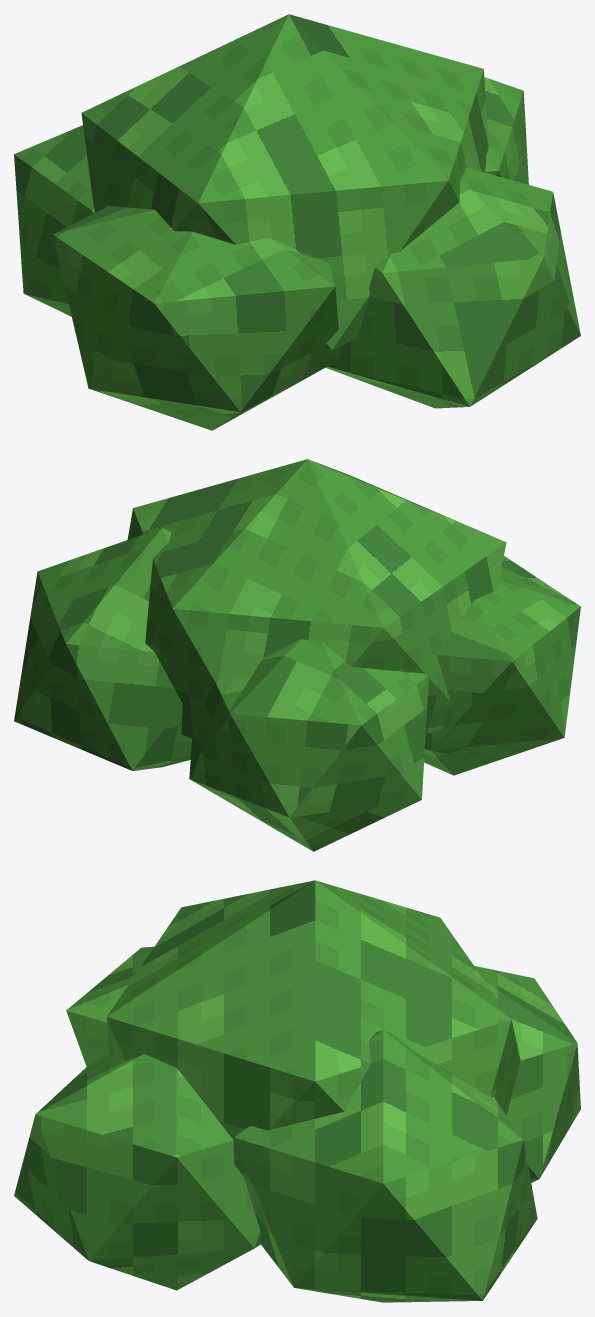
The model's file is bush1.glb.
3 renders of one model, top to bottom at view 1: azimuth 30°, elevation 25°; view 2: azimuth 150°, elevation 25°; view 3: azimuth 270°, elevation 25°, orthographic. The views are drawn at different scales.
Parts seen in each view (by area): view 1: bush1; view 2: bush1; view 3: bush1.
Boxes of the visible parts, x1=… form: bush1: x1=14, y1=14, x2=580, y2=430; bush1: x1=14, y1=459, x2=580, y2=851; bush1: x1=14, y1=880, x2=580, y2=1302.
Bounding box in the file's own units: 1.65 × 1.14 × 1.55.
1 material, 1 textured.
